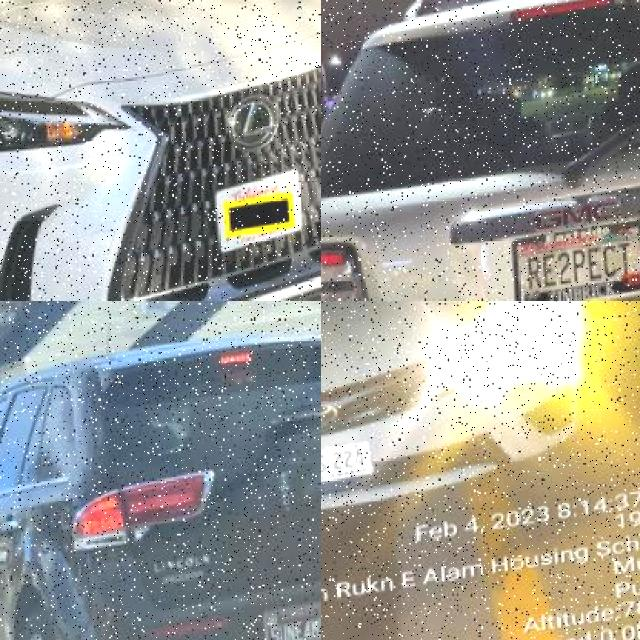licenseplate: (512, 227, 640, 300), (215, 178, 303, 260), (320, 436, 392, 502), (262, 609, 320, 640)
